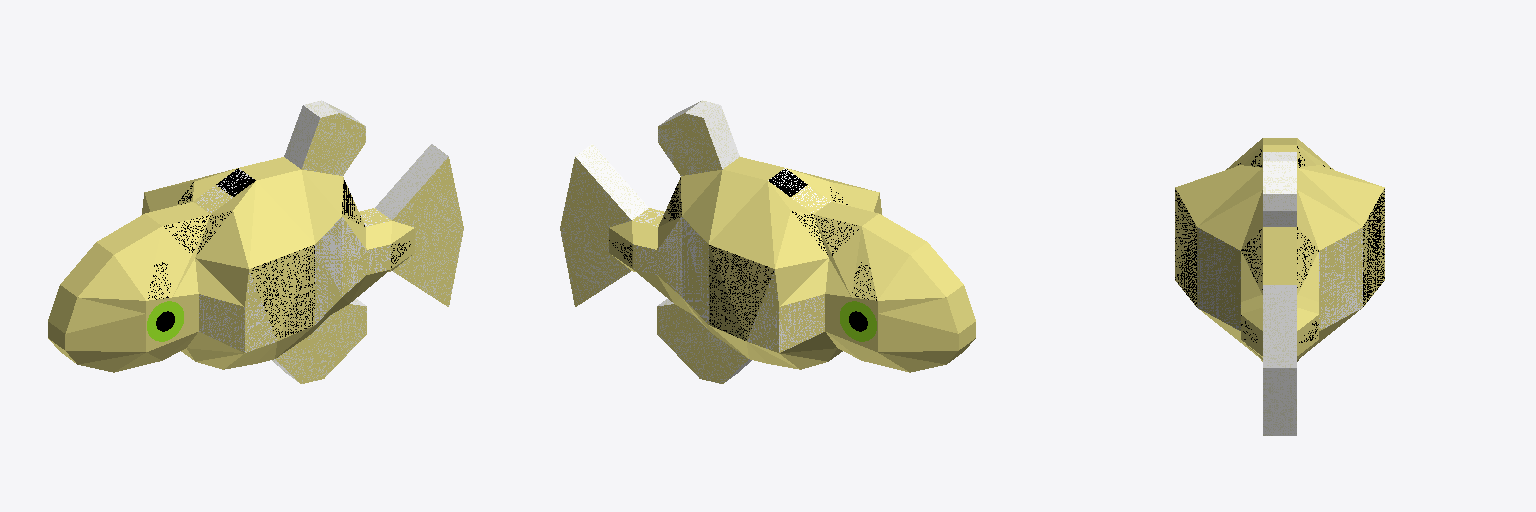
Rendered from dwarfpufferpuffed.obj.
3 renders of one model, left to right at view 1: azimuth 30°, elevation 25°; view 2: azimuth 150°, elevation 25°; view 3: azimuth 270°, elevation 25°, orthographic.
Visible parts, largest first — view 1: SketchUp; view 2: SketchUp; view 3: SketchUp.
Part boxes in pixels (bbox=[...]): SketchUp: bbox=[48, 100, 463, 383]; SketchUp: bbox=[560, 100, 975, 383]; SketchUp: bbox=[1175, 138, 1384, 435].
Size of the model in its own units: 2.11 by 1.32 by 0.96.